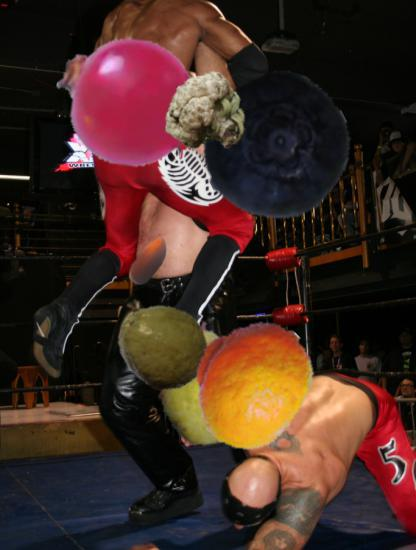Blueberry: (202, 74, 352, 224)
Cauliflower: (167, 73, 252, 158)
Guava: (116, 301, 209, 394)
Hazelnut: (121, 234, 177, 290)
Mandarine: (187, 317, 318, 448)
Pear: (140, 321, 266, 447)
Redcurrant: (55, 35, 188, 168)
